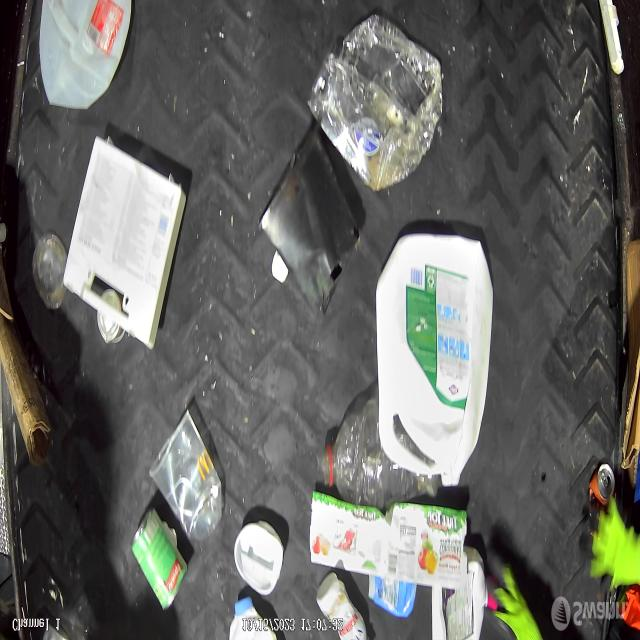can: (586, 462, 616, 499)
milk_jug: (380, 241, 490, 479), (39, 0, 136, 111)
plastic_bottle: (315, 402, 438, 512)
